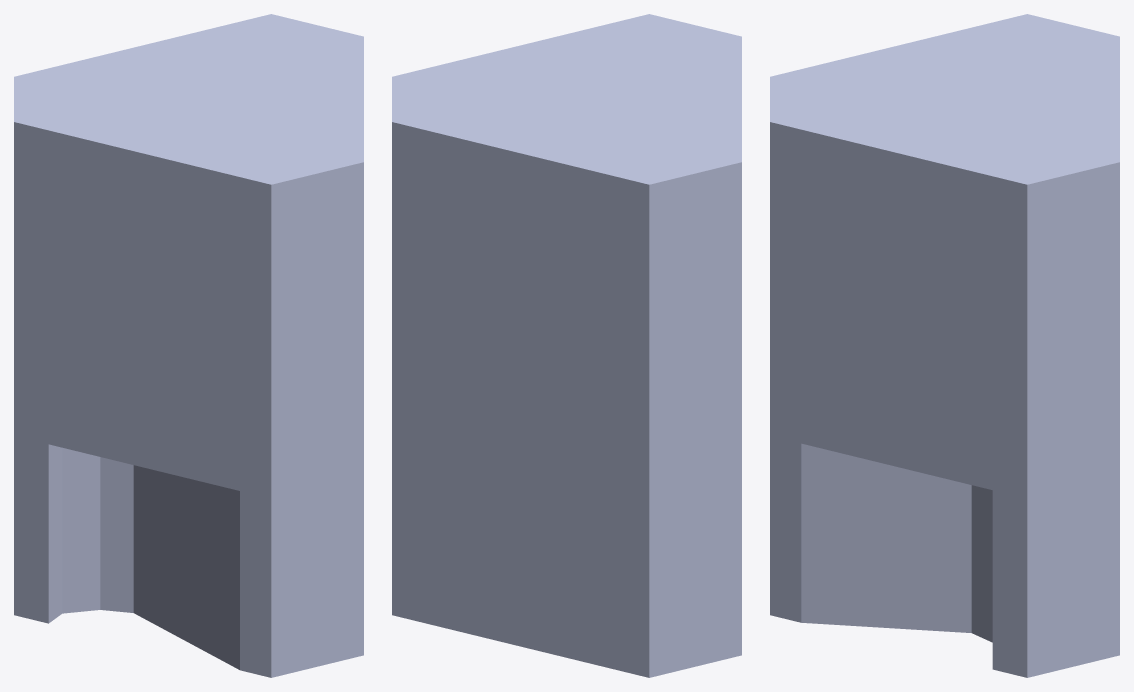
The model's file is Bottom Collision Box v5.fbx.
3 renders of one model, left to right at view 1: azimuth 30°, elevation 25°; view 2: azimuth 150°, elevation 25°; view 3: azimuth 270°, elevation 25°, orthographic.
Visible parts, largest first — view 1: Body1; view 2: Body1; view 3: Body1.
Part boxes in pixels (bbox=[...]): Body1: bbox=[14, 14, 363, 677]; Body1: bbox=[392, 14, 741, 677]; Body1: bbox=[770, 14, 1119, 677].
Size of the model in its own units: 2543 by 3425 by 2202.
